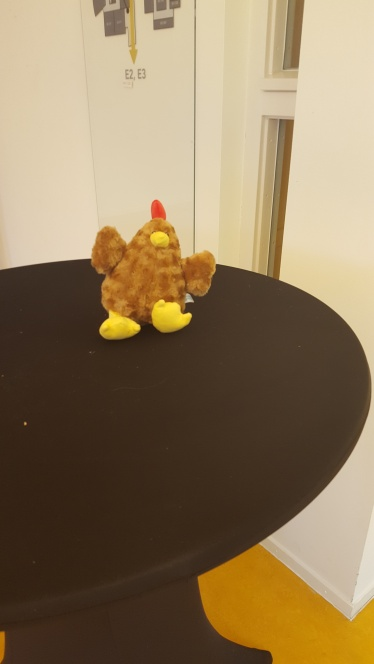chicken_front: (91, 199, 215, 342)
